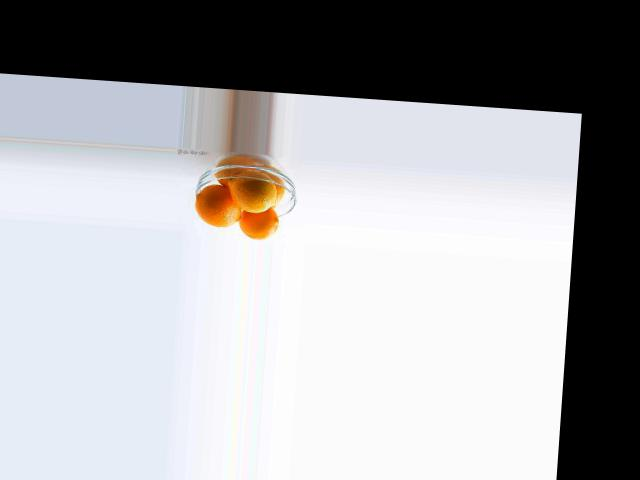lemon: (191, 189, 245, 229)
